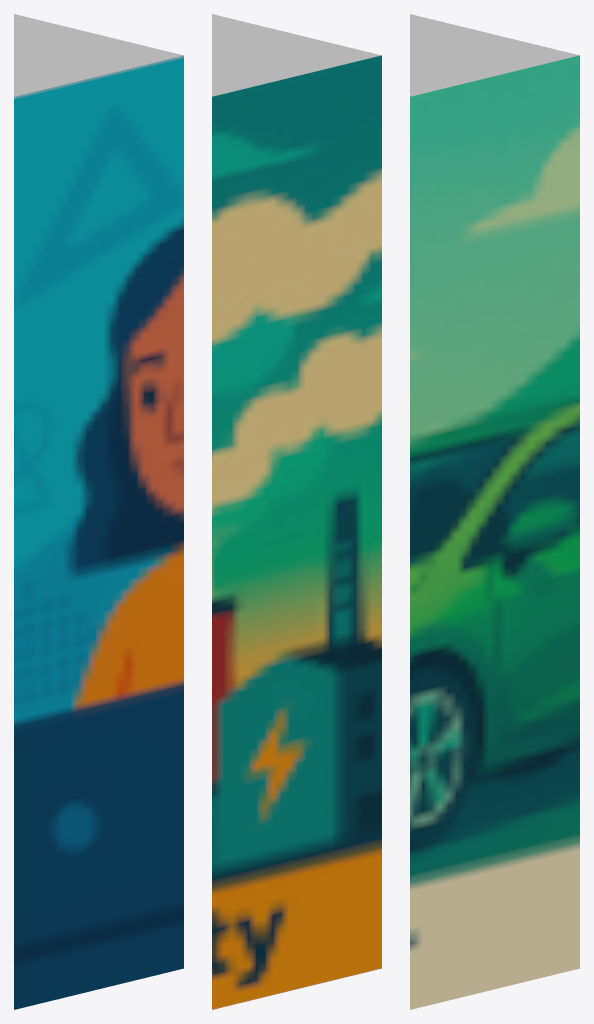
The model's file is Billboard_2x1_Piece_08.fbx.
3 renders of one model, left to right at view 1: azimuth 30°, elevation 25°; view 2: azimuth 150°, elevation 25°; view 3: azimuth 270°, elevation 25°, orthographic.
Visible parts, largest first — view 1: Billboard_2x1_Piece_08; view 2: Billboard_2x1_Piece_08; view 3: Billboard_2x1_Piece_08.
Part boxes in pixels (box(x1,y1,x2,y2)): Billboard_2x1_Piece_08: box(14, 14, 183, 1009); Billboard_2x1_Piece_08: box(212, 14, 381, 1009); Billboard_2x1_Piece_08: box(410, 14, 579, 1009).
Bounding box in the file's own units: 119 × 103 × 610.
